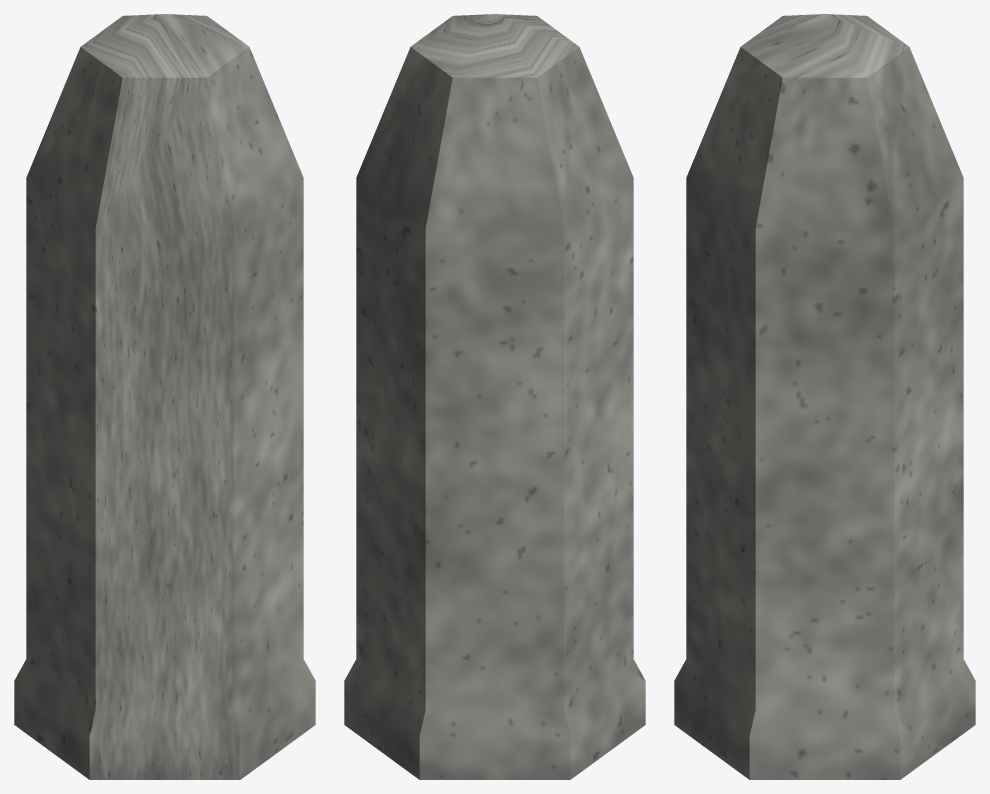
Rendered from SM_Morin_Dissuasore_LOD2.fbx.
3 views of the same model, side by side, from view 1: azimuth 30°, elevation 25°; view 2: azimuth 150°, elevation 25°; view 3: azimuth 270°, elevation 25° (orthographic).
Visible parts, largest first — view 1: SM_Morin_Dissuasore_LOD2; view 2: SM_Morin_Dissuasore_LOD2; view 3: SM_Morin_Dissuasore_LOD2.
Part boxes in pixels (box(x1,y1,x2,y2)): SM_Morin_Dissuasore_LOD2: box(14, 14, 315, 779); SM_Morin_Dissuasore_LOD2: box(344, 14, 645, 779); SM_Morin_Dissuasore_LOD2: box(674, 14, 975, 779).
Size of the model in its own units: 21.65 by 25 by 65.
1 material, 1 textured.
